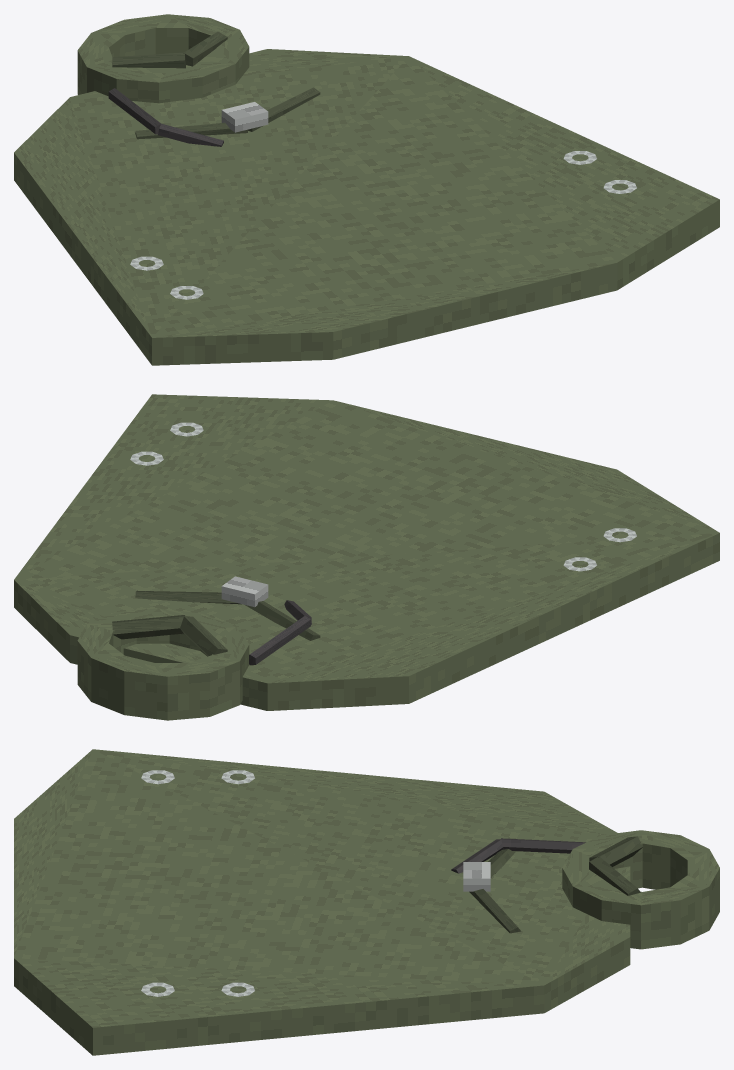
Rendered from military_poncho.glb.
3 renders of one model, top to bottom at view 1: azimuth 30°, elevation 25°; view 2: azimuth 150°, elevation 25°; view 3: azimuth 270°, elevation 25°, orthographic.
Parts seen in each view (by area): view 1: block_draped cape, block_folded hood, block_cloak clasp, block_hood facing 0, block_hood cinch cord 0, block_hood cinch cord 1, block_neck tie 0, block_hood facing 1, block_neck tie 1; view 2: block_draped cape, block_folded hood, block_hood facing 1, block_cloak clasp, block_neck tie 1, block_hood cinch cord 0, block_hood facing 0, block_neck tie 0; view 3: block_draped cape, block_folded hood, block_hood cinch cord 0, block_cloak clasp, block_hood facing 1, block_hood facing 0, block_neck tie 1, block_hood cinch cord 1.
Part boxes in pixels (x1=…): block_draped cape: x1=14, y1=49, x2=719, y2=365; block_folded hood: x1=77, y1=14, x2=249, y2=103; block_cloak clasp: x1=221, y1=102, x2=268, y2=132; block_hood facing 0: x1=112, y1=52, x2=185, y2=68; block_hood cinch cord 0: x1=108, y1=88, x2=161, y2=134; block_hood cinch cord 1: x1=158, y1=124, x2=223, y2=146; block_neck tie 0: x1=135, y1=122, x2=247, y2=139; block_hood facing 1: x1=183, y1=31, x2=227, y2=66; block_neck tie 1: x1=248, y1=87, x2=320, y2=131; block_draped cape: x1=14, y1=394, x2=719, y2=710; block_folded hood: x1=77, y1=608, x2=249, y2=720; block_hood facing 1: x1=112, y1=615, x2=184, y2=639; block_cloak clasp: x1=221, y1=576, x2=268, y2=607; block_neck tie 1: x1=135, y1=590, x2=241, y2=604; block_hood cinch cord 0: x1=249, y1=616, x2=310, y2=665; block_hood facing 0: x1=180, y1=616, x2=227, y2=656; block_neck tie 0: x1=245, y1=601, x2=320, y2=640; block_draped cape: x1=14, y1=749, x2=630, y2=1055; block_folded hood: x1=562, y1=830, x2=719, y2=949; block_hood cinch cord 0: x1=500, y1=838, x2=585, y2=853; block_cloak clasp: x1=463, y1=862, x2=490, y2=891; block_hood facing 1: x1=589, y1=856, x2=640, y2=895; block_hood facing 0: x1=589, y1=836, x2=642, y2=866; block_neck tie 1: x1=469, y1=889, x2=521, y2=933; block_hood cinch cord 1: x1=451, y1=839, x2=503, y2=873.
Size of the model in its own units: 0.5856 by 0.0587 by 0.627.
1 material, 1 textured.
